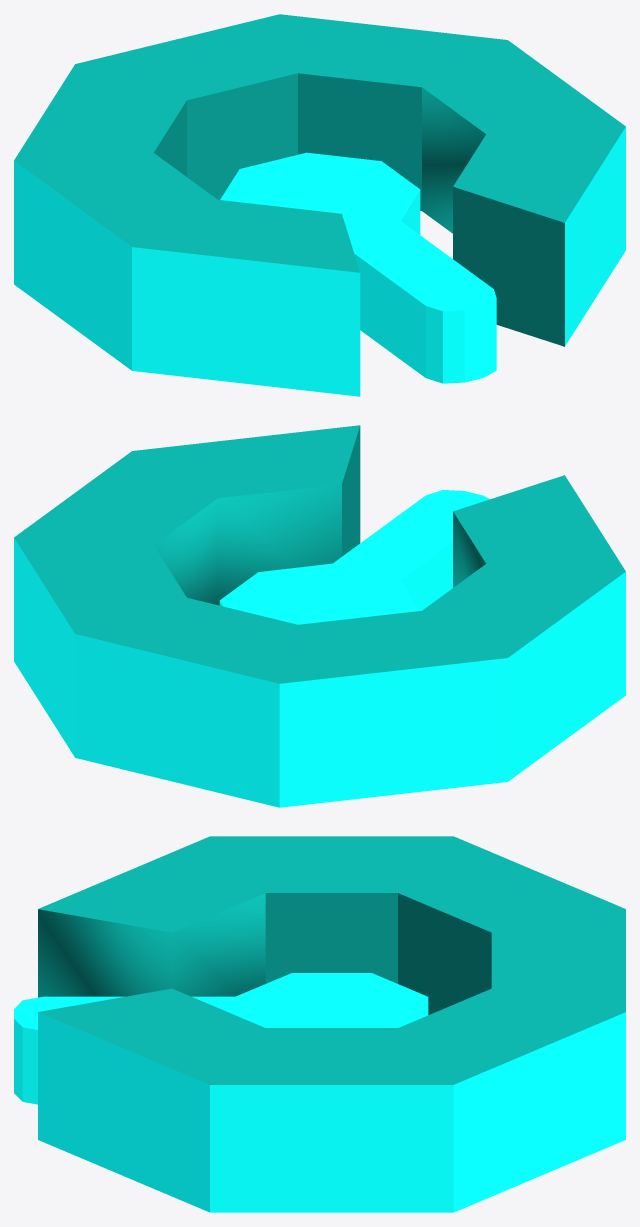
Rendered from silver_sphinx.gltf.
3 renders of one model, top to bottom at view 1: azimuth 30°, elevation 25°; view 2: azimuth 150°, elevation 25°; view 3: azimuth 270°, elevation 25°, orthographic. The views are drawn at different scales.
Parts seen in each view (by area): view 1: icon_sphinx_silver; view 2: icon_sphinx_silver; view 3: icon_sphinx_silver.
Part boxes in pixels (box(x1,y1,x2,y2)): icon_sphinx_silver: box(14, 14, 625, 396); icon_sphinx_silver: box(14, 425, 625, 807); icon_sphinx_silver: box(14, 836, 625, 1212).
Size of the model in its own units: 1.43 by 0.3427 by 1.49.
2 materials, 2 textured.
